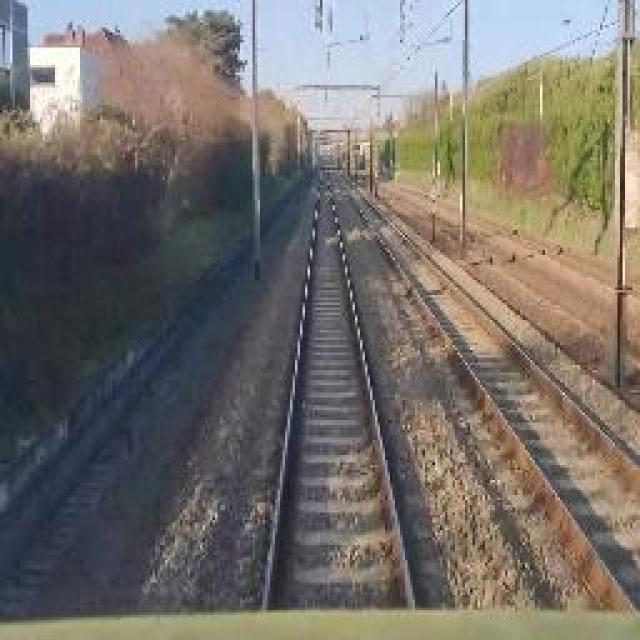rail: (328, 160, 640, 614), (233, 164, 452, 617)
